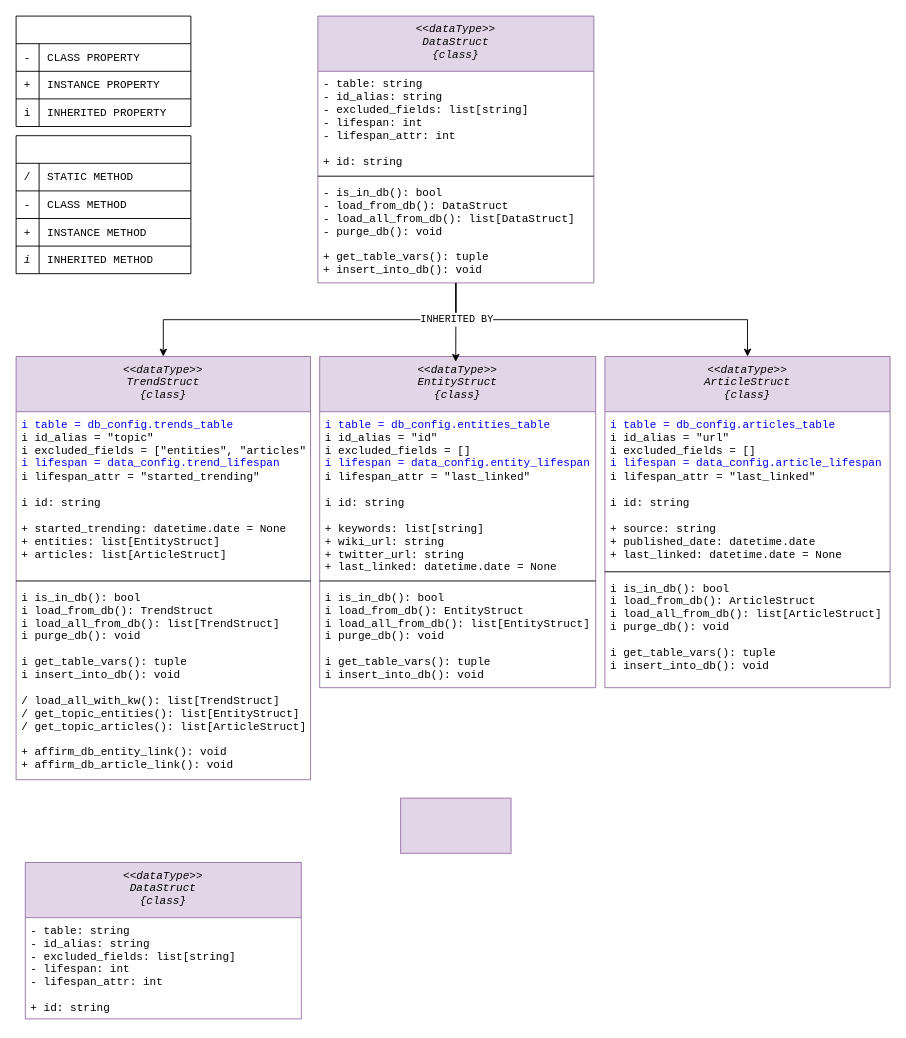
This 906x1038 diagram has some shape labels left out. Here are the shapes that lost their labels. From the top down, the box of each, then its label:
(15, 15, 191, 126): LEGEND - PROPERTIES
(15, 135, 191, 274): LEGEND - METHODS
(400, 797, 511, 853): <<dataType>> pydantic.BaseModel {class}
